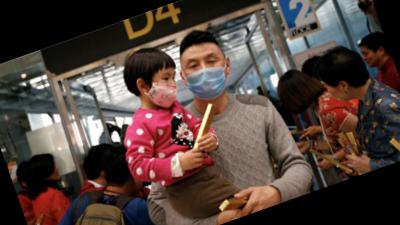with_mask: (179, 46, 236, 105), (144, 70, 185, 114)
without_mask: (361, 45, 384, 70), (43, 159, 64, 184)
